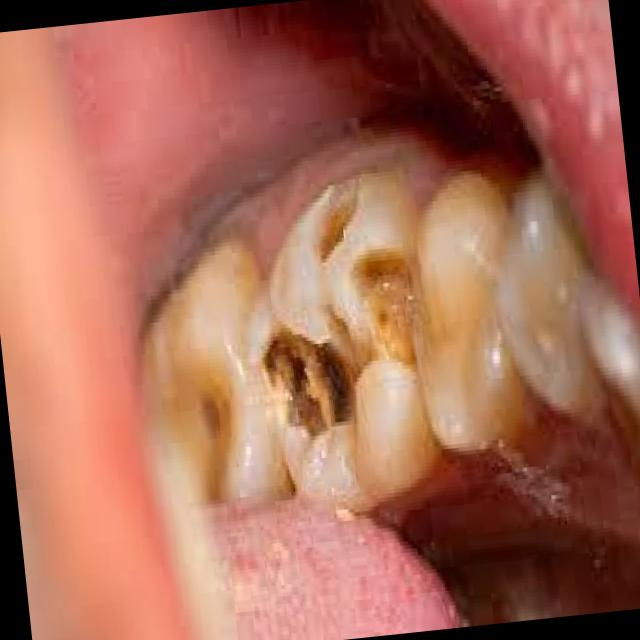Caries: (314, 342, 350, 422), (266, 340, 309, 391)
Cavity: (262, 248, 417, 439), (317, 178, 360, 263)
Tooth: (241, 170, 440, 510), (142, 244, 287, 509), (411, 174, 525, 451), (496, 178, 592, 412)
